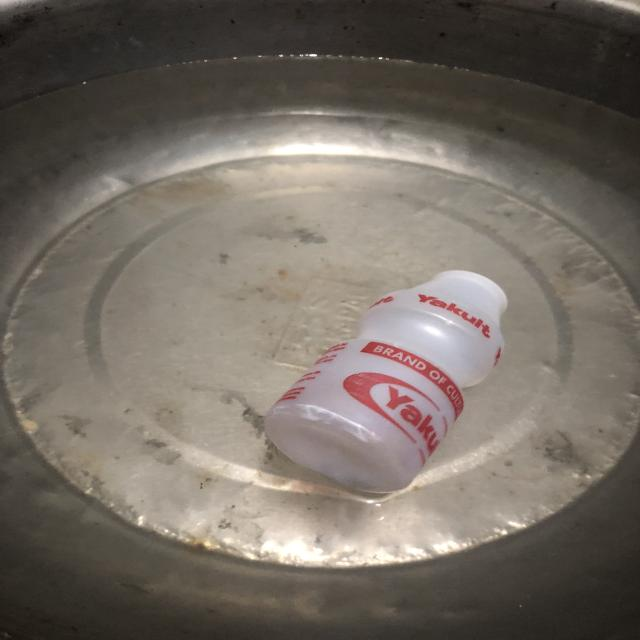Plastic Bottle: (276, 259, 522, 487)
